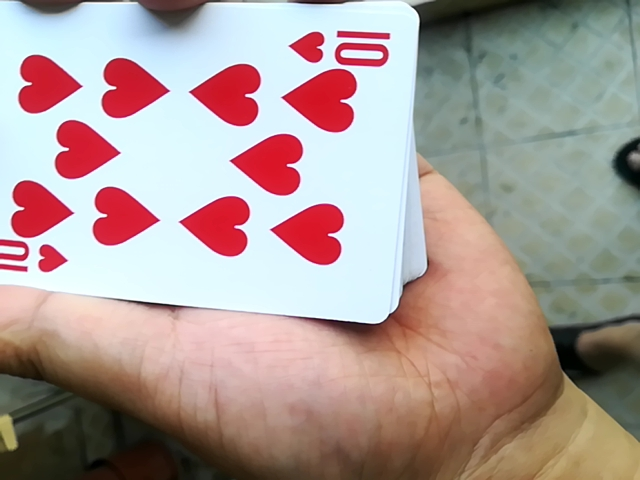hx 10: (1, 0, 409, 335)
